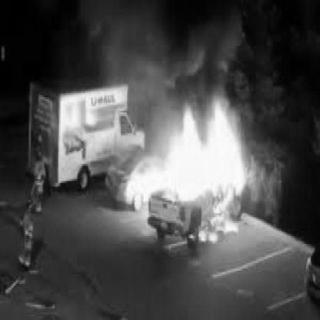Fire: (133, 104, 257, 236)
